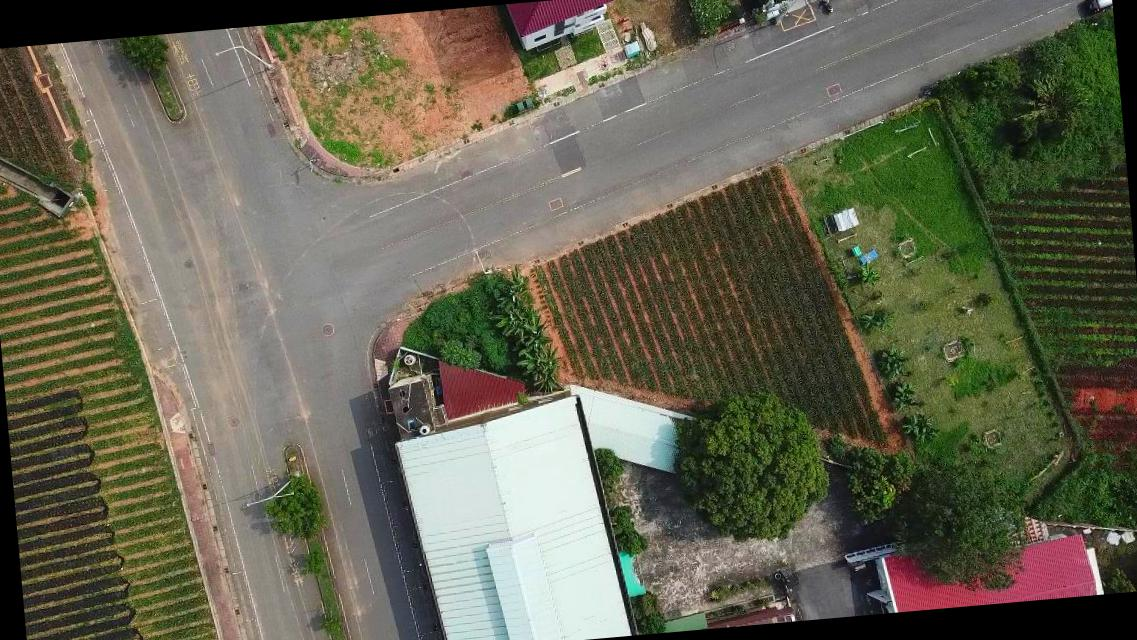vehicle: (1082, 0, 1112, 18)
